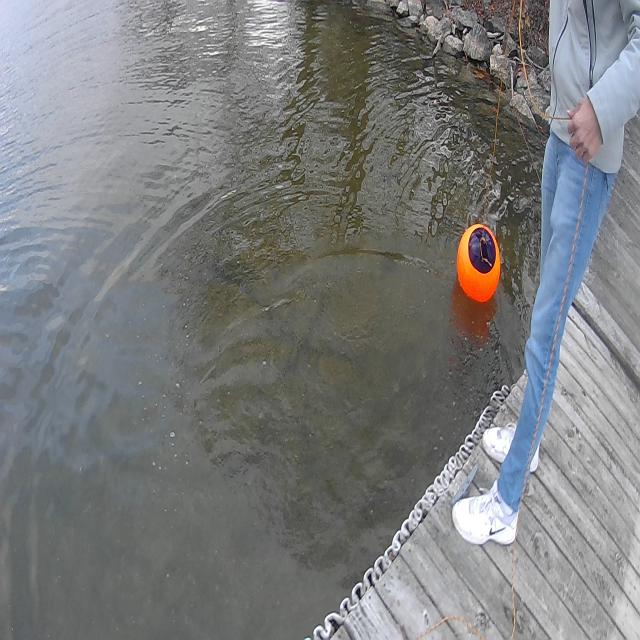Buoy: (453, 215, 505, 313)
